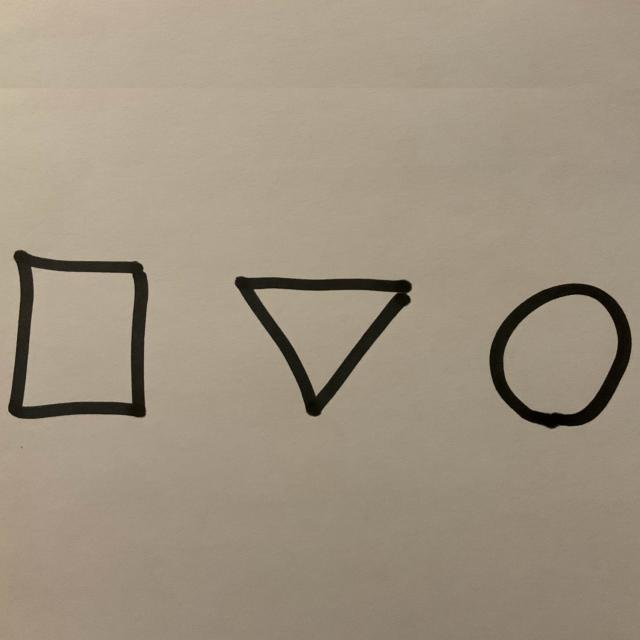Dreieck: (233, 277, 414, 419)
Kreis: (488, 283, 633, 432)
Quadrat: (7, 251, 151, 423)
